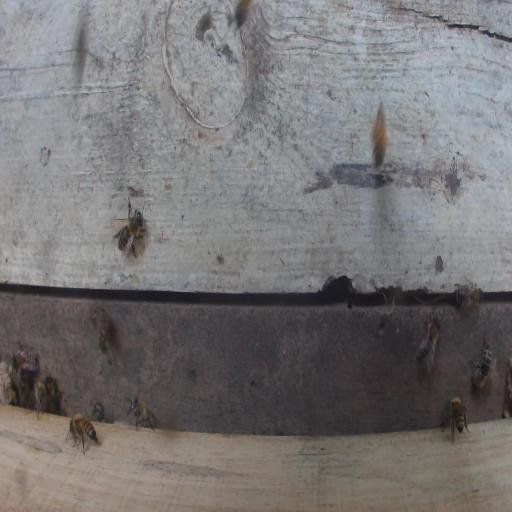nonpollenbee: (110, 196, 148, 263), (451, 272, 483, 324), (63, 412, 102, 454), (417, 310, 441, 372), (439, 396, 470, 444), (468, 330, 492, 392), (370, 98, 389, 169), (10, 338, 41, 374), (127, 396, 156, 431), (44, 376, 67, 416), (18, 369, 30, 408)
